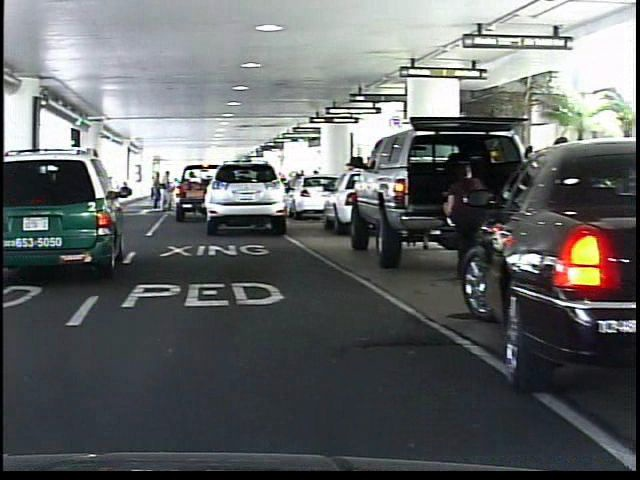person: (435, 155, 491, 276)
